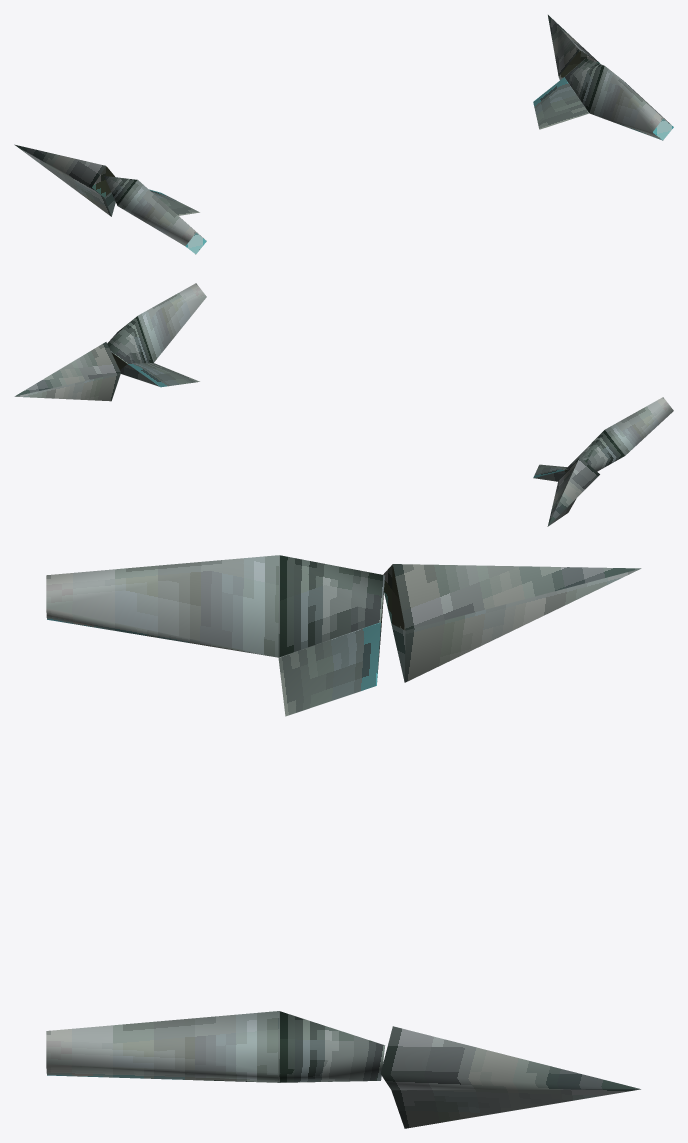
File: kse_firespray_weapon2_s02_l2.fbx
3 views of the same model, one above another, from view 1: azimuth 30°, elevation 25°; view 2: azimuth 150°, elevation 25°; view 3: azimuth 270°, elevation 25° (orthographic). The views are drawn at different scales.
Parts seen in each view (by area): view 1: mesh_node; view 2: mesh_node; view 3: mesh_node.
Boxes of the visible parts, <box> form: mesh_node: <box>14,15,673,254</box>; mesh_node: <box>14,283,673,526</box>; mesh_node: <box>46,555,641,1128</box>.
Size of the model in its own units: 5.31 by 0.5842 by 2.57.
1 material, 1 textured.
